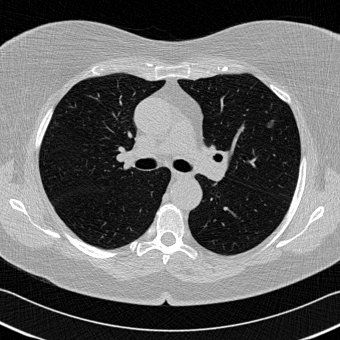nodule: (267, 121, 273, 127)
